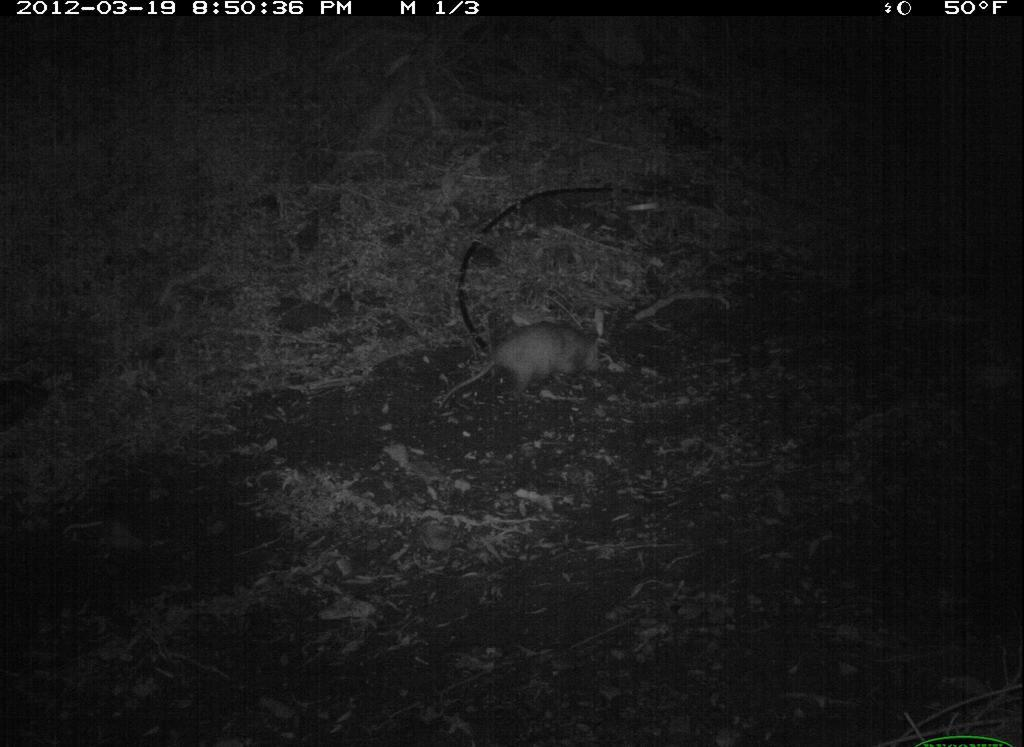opossum: (431, 309, 629, 424)
